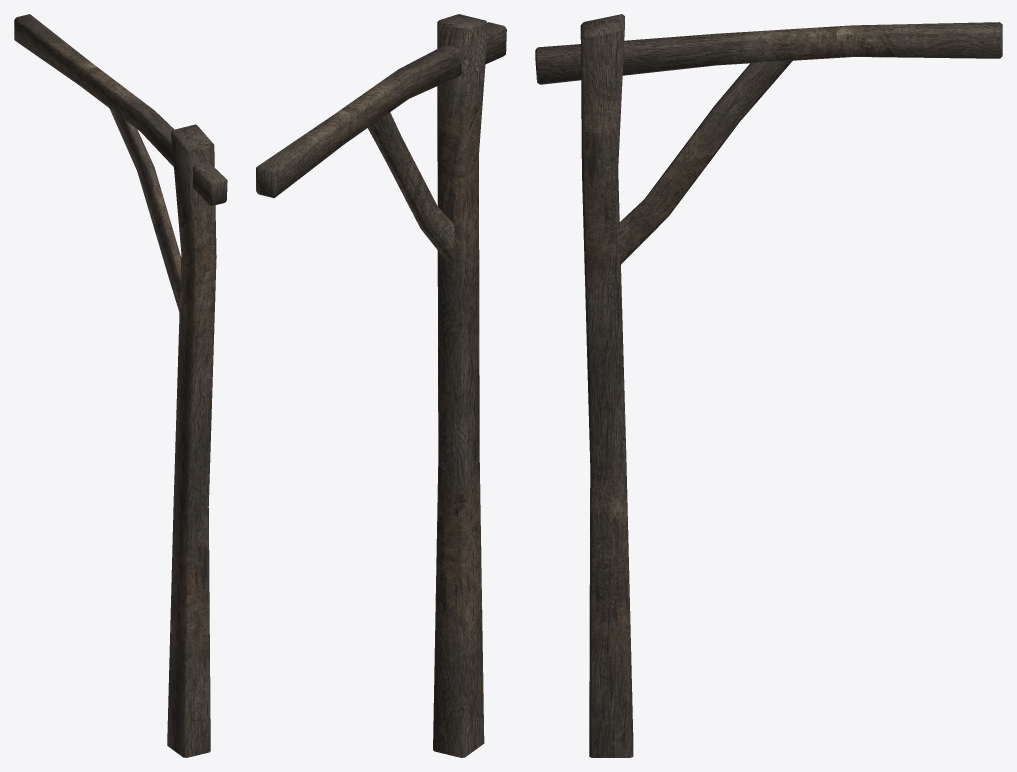
The model's file is Gallows_1.FBX.
The picture shows the model from 3 angles, left to right: view 1: azimuth 30°, elevation 25°; view 2: azimuth 150°, elevation 25°; view 3: azimuth 270°, elevation 25°; orthographic projection. The views are drawn at different scales.
Parts seen in each view (by area): view 1: Mesh; view 2: Mesh; view 3: Mesh.
Part boxes in pixels (x1=…): Mesh: x1=14, y1=14, x2=227, y2=757; Mesh: x1=256, y1=14, x2=506, y2=757; Mesh: x1=535, y1=14, x2=1002, y2=757.
Bounding box in the file's own units: 12.83 × 147 × 253.
